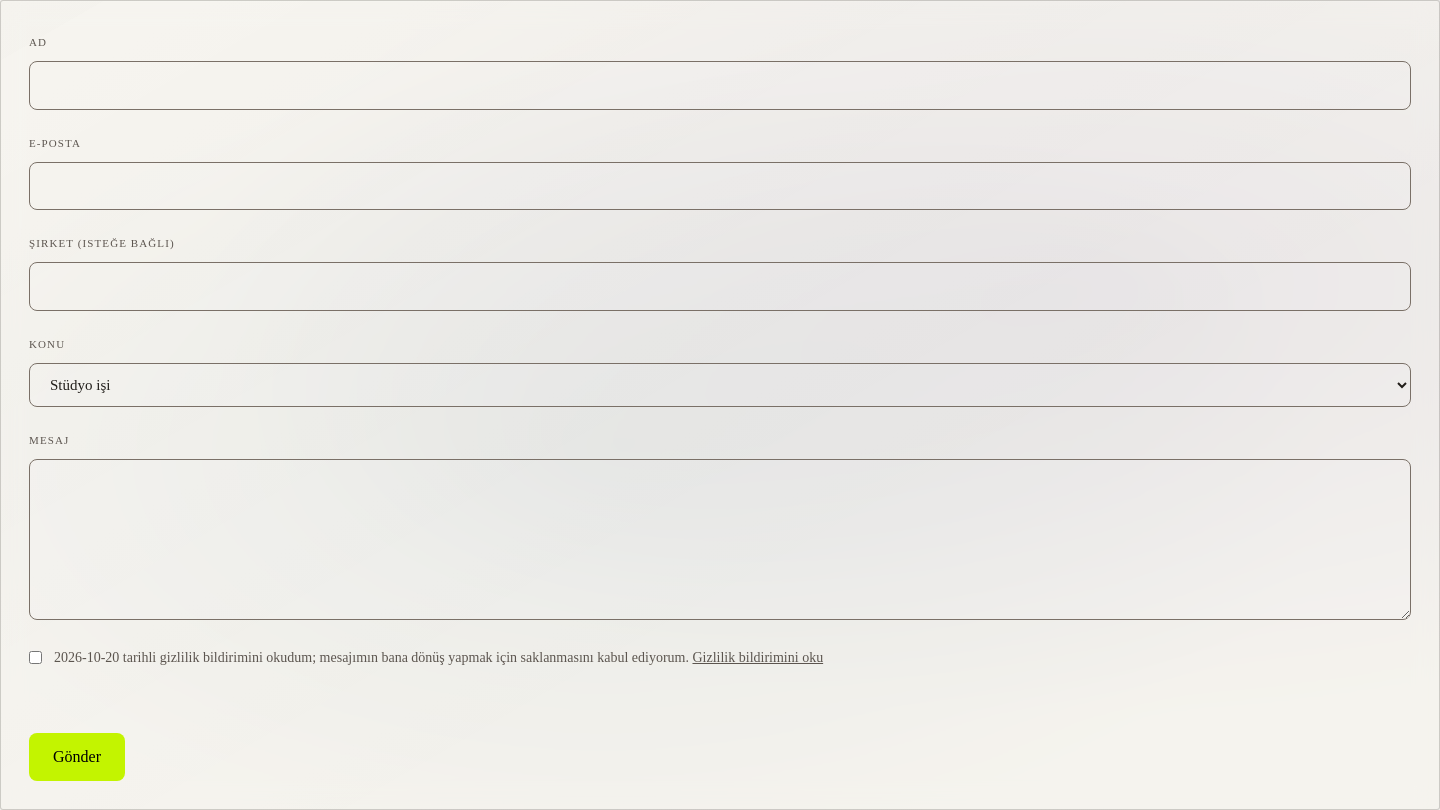
when it does not go through › keeps a lost response uncertain rather than claiming the write failed
Type "Ada" into the field labelled "Ad".
click(720, 85); type("Ada")  # box [29,61,1411,110]
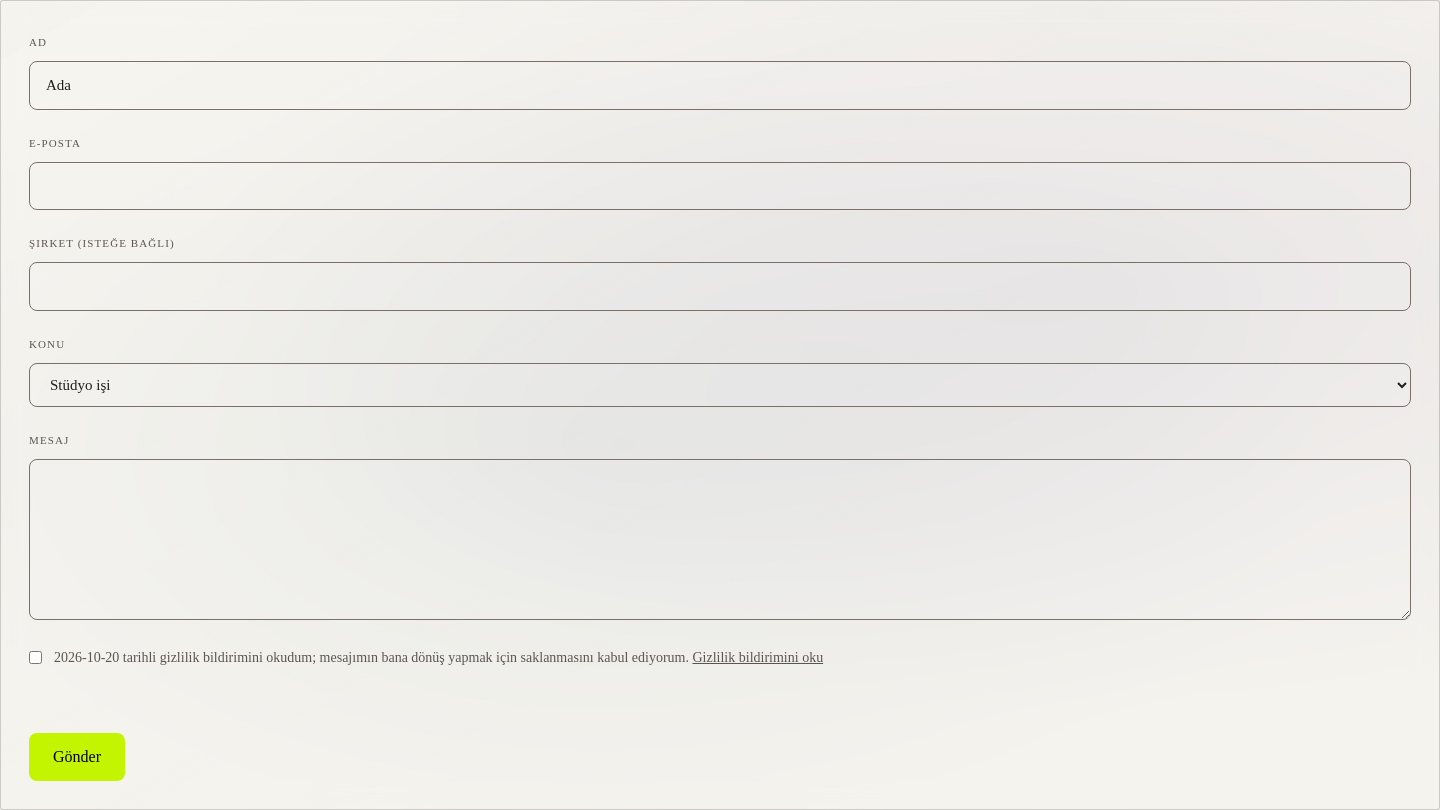
Type "ada@example.com" into the field labelled "E-posta".
click(720, 186); type("ada@example.com")  # box [29,162,1411,210]
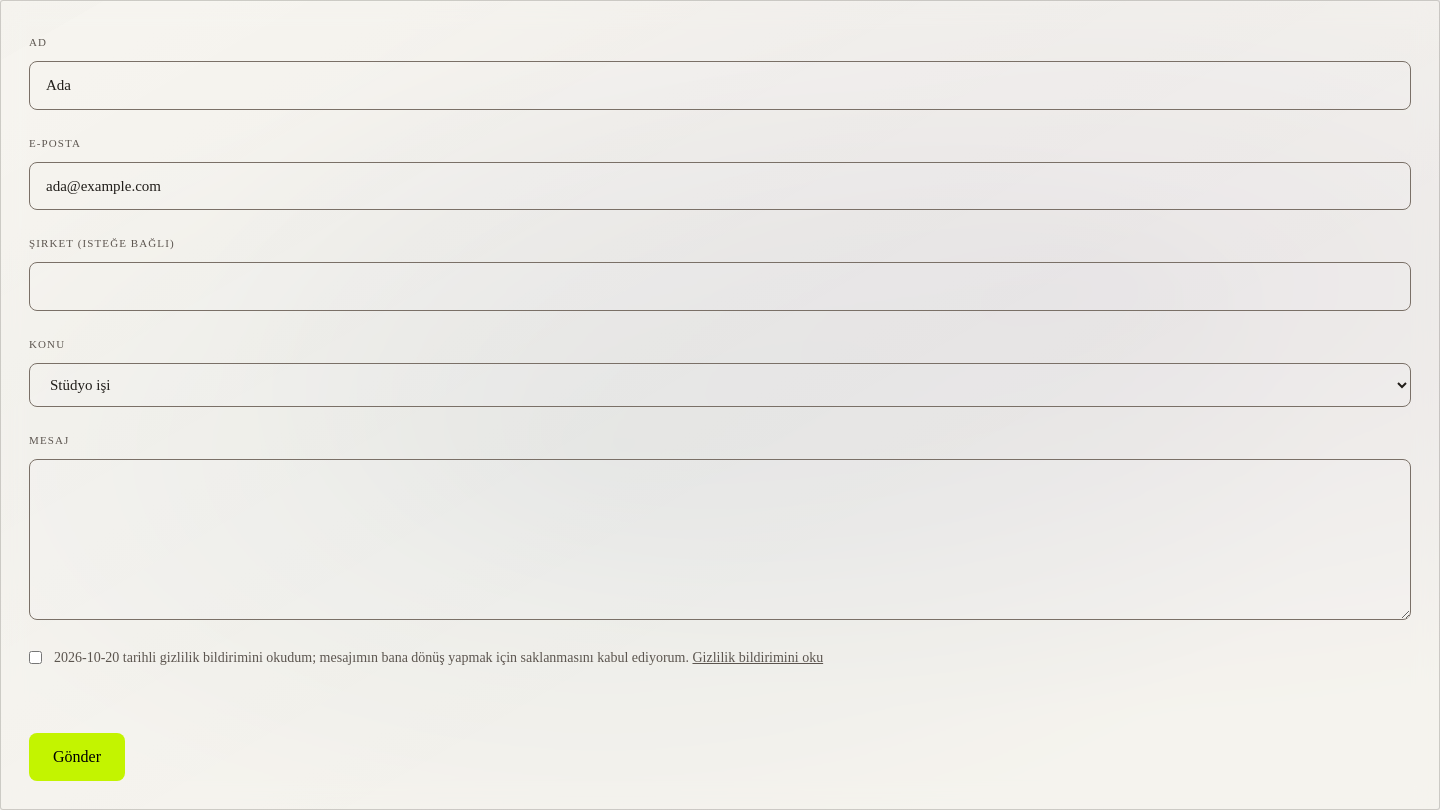
Type "merhaba" into the text box labelled "Mesaj".
click(720, 539); type("merhaba")  # box [29,458,1411,620]
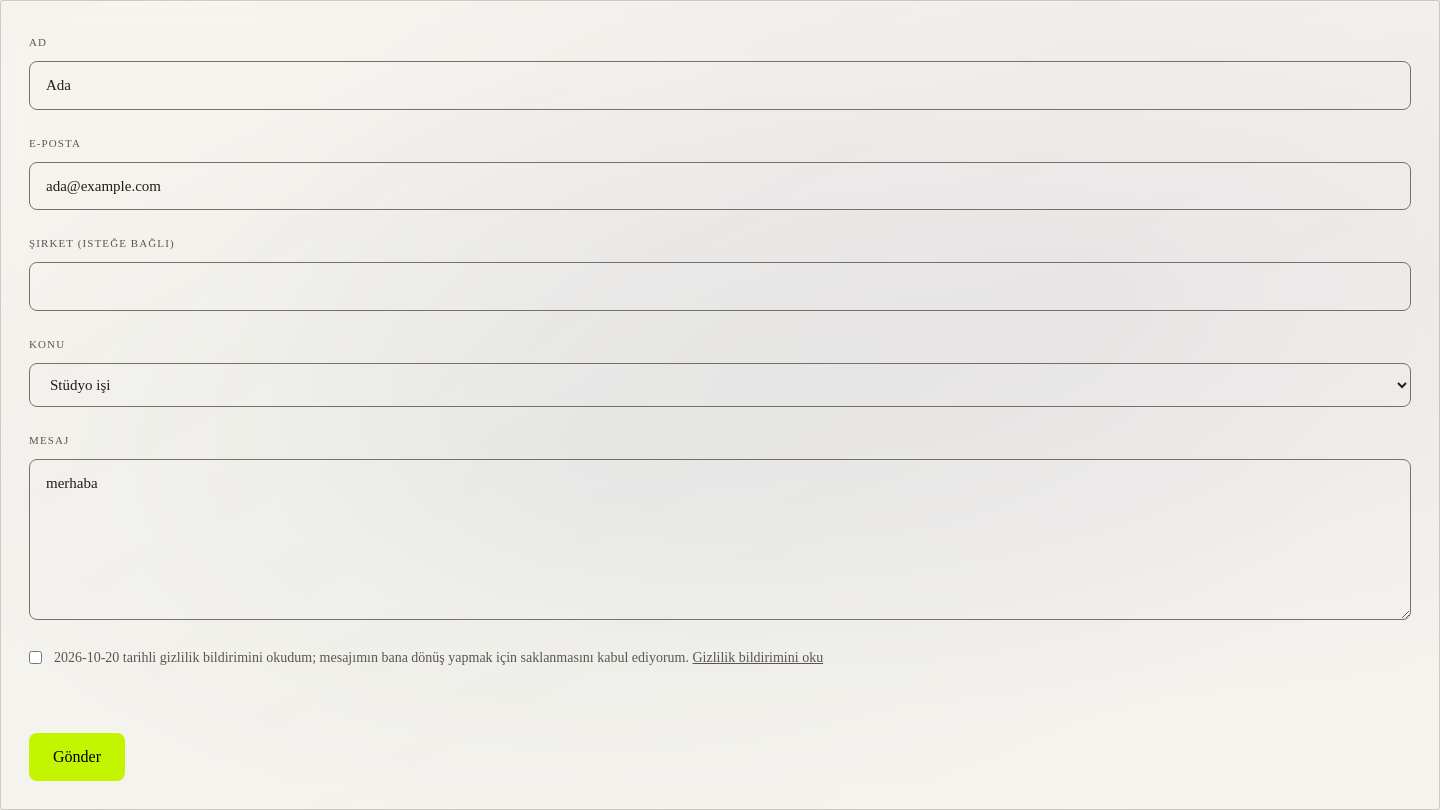
Click the checkbox.
click(36, 657)  # box [29,650,42,664]
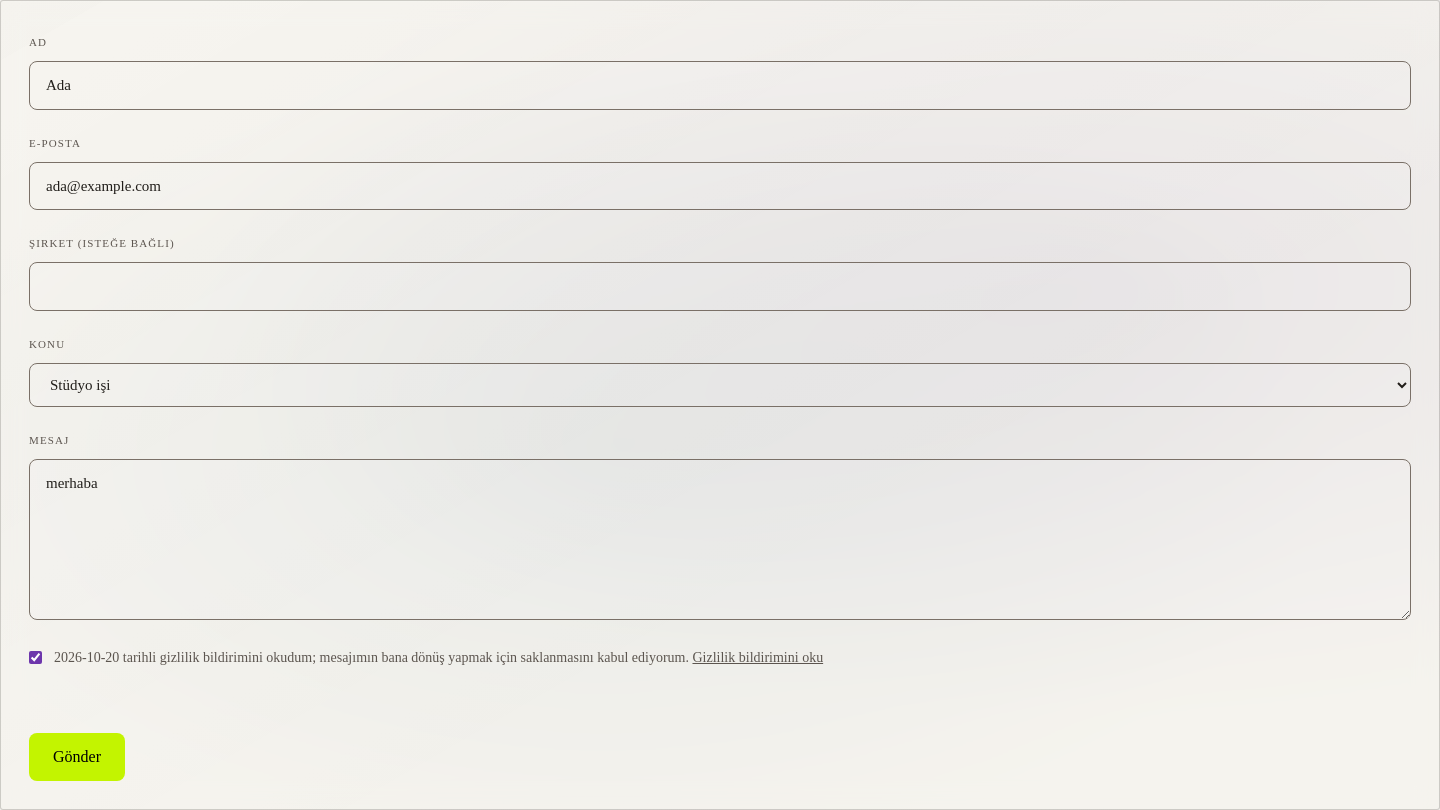
Submit the form from the button "Gönder", box [29,733,125,781]
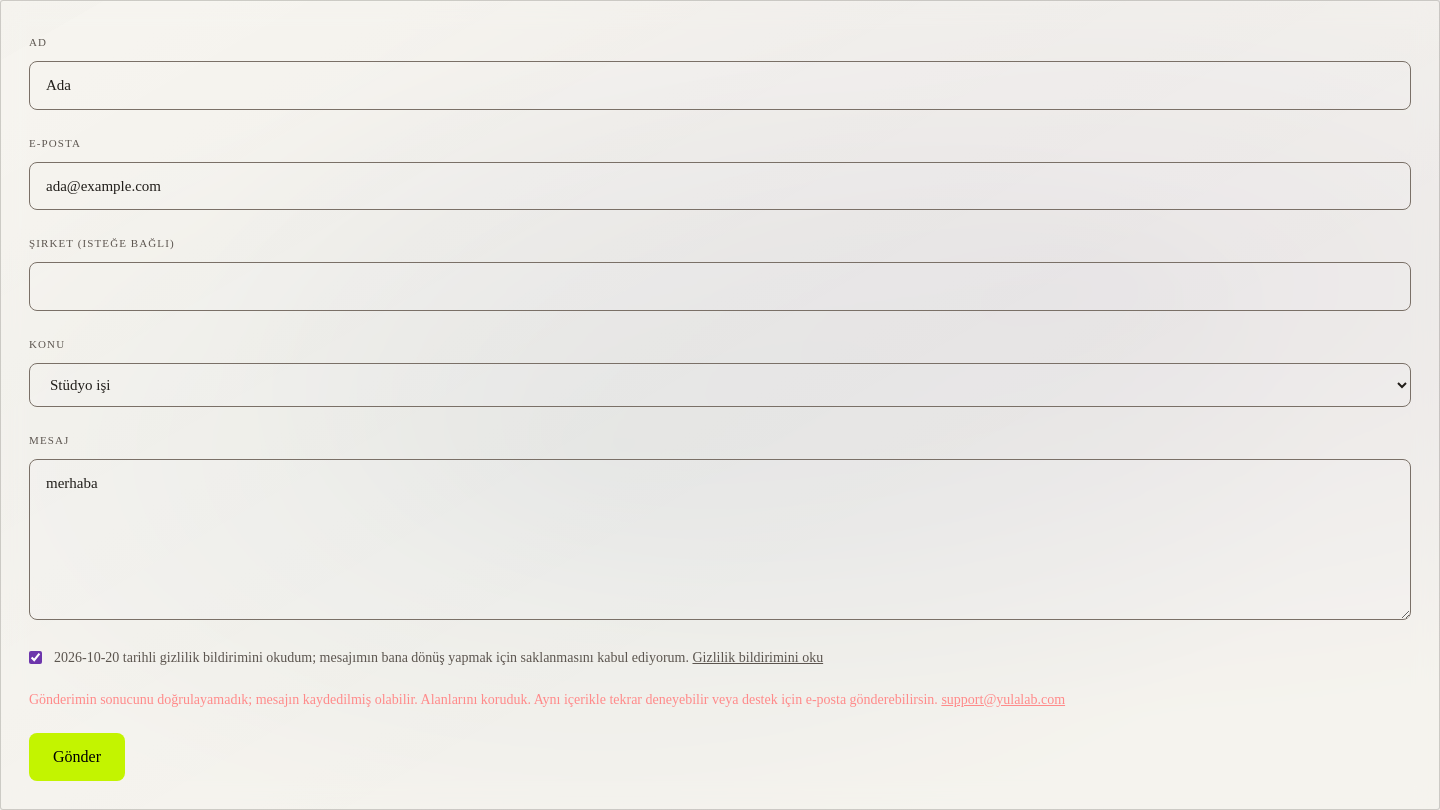
Result: the text "Gönderimin sonucunu doğrulayamadık; mesajın kaydedilmiş olabilir. Alanlarını koruduk. Aynı içerikle tekrar deneyebilir v" is shown at [29,692,938,707]
